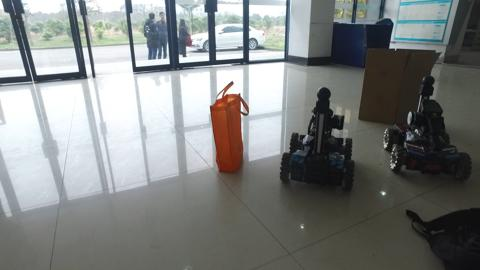bag: (208, 83, 246, 173)
chariot: (383, 73, 470, 180), (277, 84, 361, 194)
